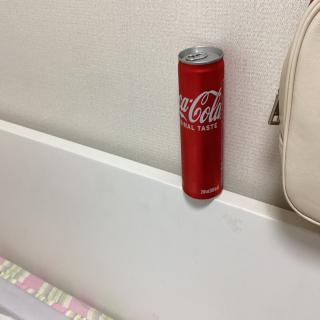cocacola: (175, 44, 231, 203)
